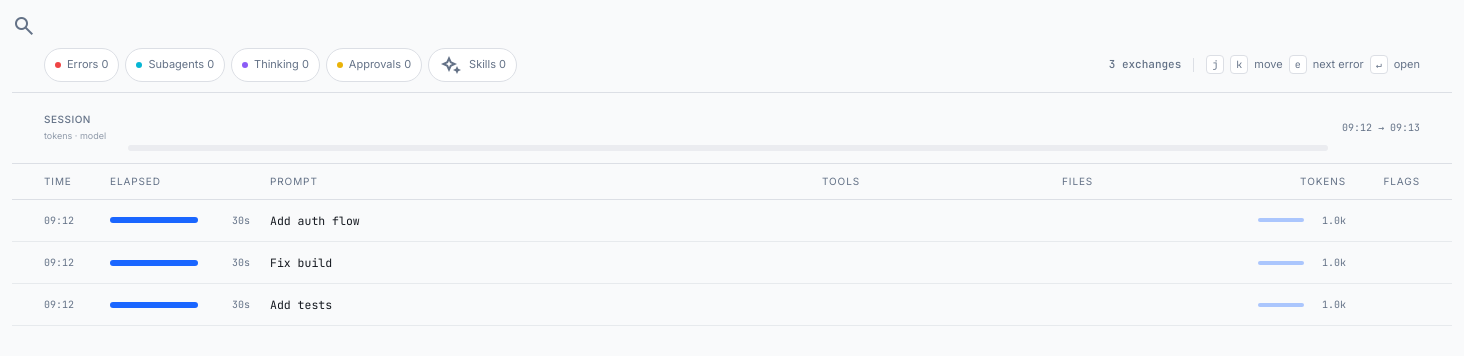
TimelineTab › narrows the track by search and updates the match counter
The width and height of the screenshot is (1464, 356).
Click the button named "Search session" at (24, 25), box [12,12,36,38]
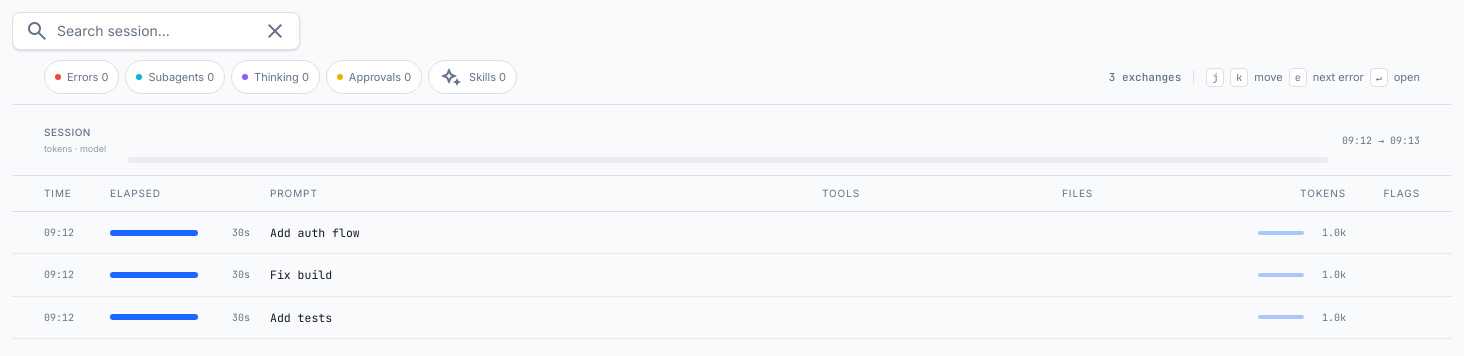
Type "add" into the field labelled "Search session" at (156, 31), box [57,21,255,41]
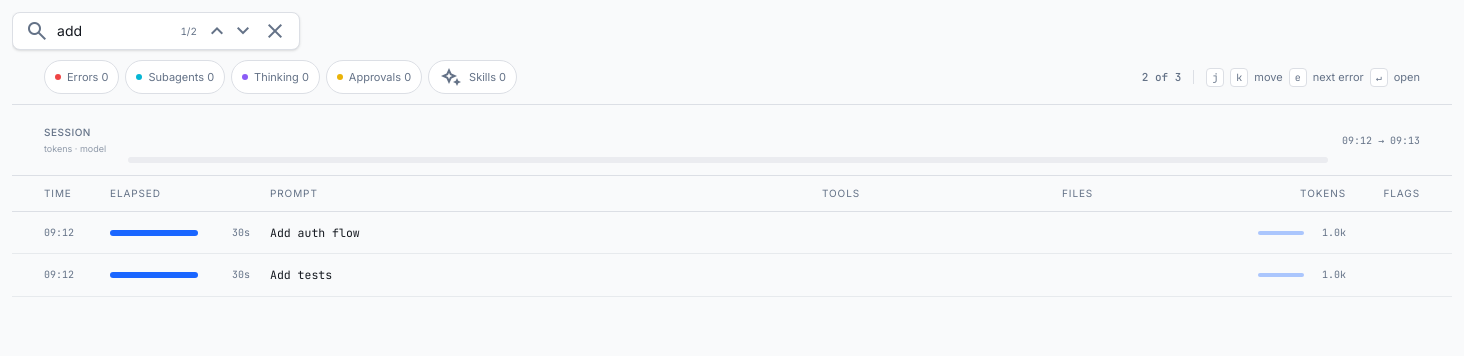
Expected: the button "Fix build" is gone
Expected: the text "2 of 3" is shown, [1142,69,1181,85]
Expected: the text "1/2" is shown, [180,24,197,38]
